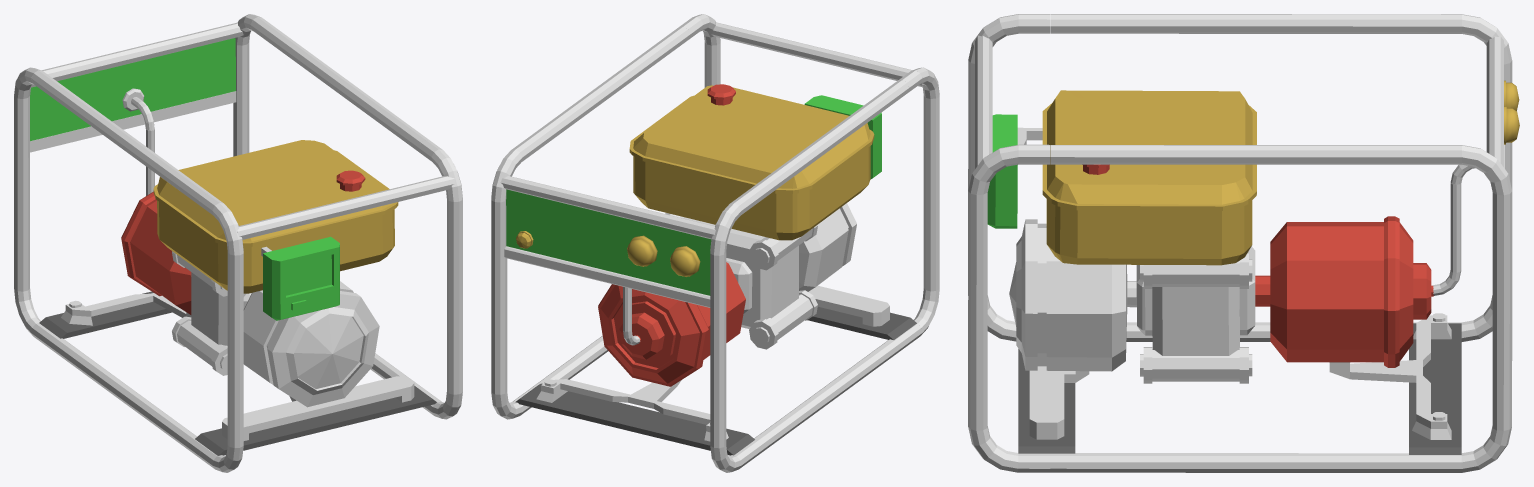
Rendered from generador.fbx.
3 renders of one model, left to right at view 1: azimuth 30°, elevation 25°; view 2: azimuth 150°, elevation 25°; view 3: azimuth 270°, elevation 25°, orthographic. The views are drawn at different scales.
Visible parts, largest first — view 1: Group57483.043, Group57483.033, Group57483.021, Group57483, Group57483.031, Group57483.010, Group57483.009, Group57483.034; view 2: Group57483.043, Group57483.033, Group57483.021, Group57483.031, Group57483.009, Group57483.010, Group57483, Group57483.024, Group57483.025, Group57483.034; view 3: Group57483.043, Group57483.033, Group57483.031, Group57483.009, Group57483, Group57483.010.
Part boxes in pixels (box(x1,y1,x2,y2)): Group57483.043: box(14, 14, 462, 472); Group57483.033: box(153, 140, 398, 293); Group57483.021: box(30, 38, 235, 141); Group57483: box(263, 236, 339, 320); Group57483.031: box(121, 191, 191, 314); Group57483.010: box(195, 386, 436, 455); Group57483.009: box(39, 291, 171, 338); Group57483.034: box(336, 170, 365, 191); Group57483.043: box(491, 14, 939, 472); Group57483.033: box(629, 85, 874, 240); Group57483.021: box(506, 189, 711, 295); Group57483.031: box(598, 262, 745, 386); Group57483.009: box(515, 383, 754, 455); Group57483.010: box(807, 306, 916, 339); Group57483: box(804, 95, 881, 179); Group57483.024: box(627, 235, 657, 266); Group57483.025: box(670, 246, 700, 276); Group57483.034: box(707, 84, 735, 105); Group57483.043: box(968, 14, 1512, 472); Group57483.033: box(1042, 90, 1256, 265); Group57483.031: box(1255, 216, 1433, 367); Group57483.009: box(1409, 323, 1461, 454); Group57483: box(987, 114, 1017, 228); Group57483.010: box(1018, 349, 1075, 453).
Bounding box in the file's own units: 168 × 184 × 282.
